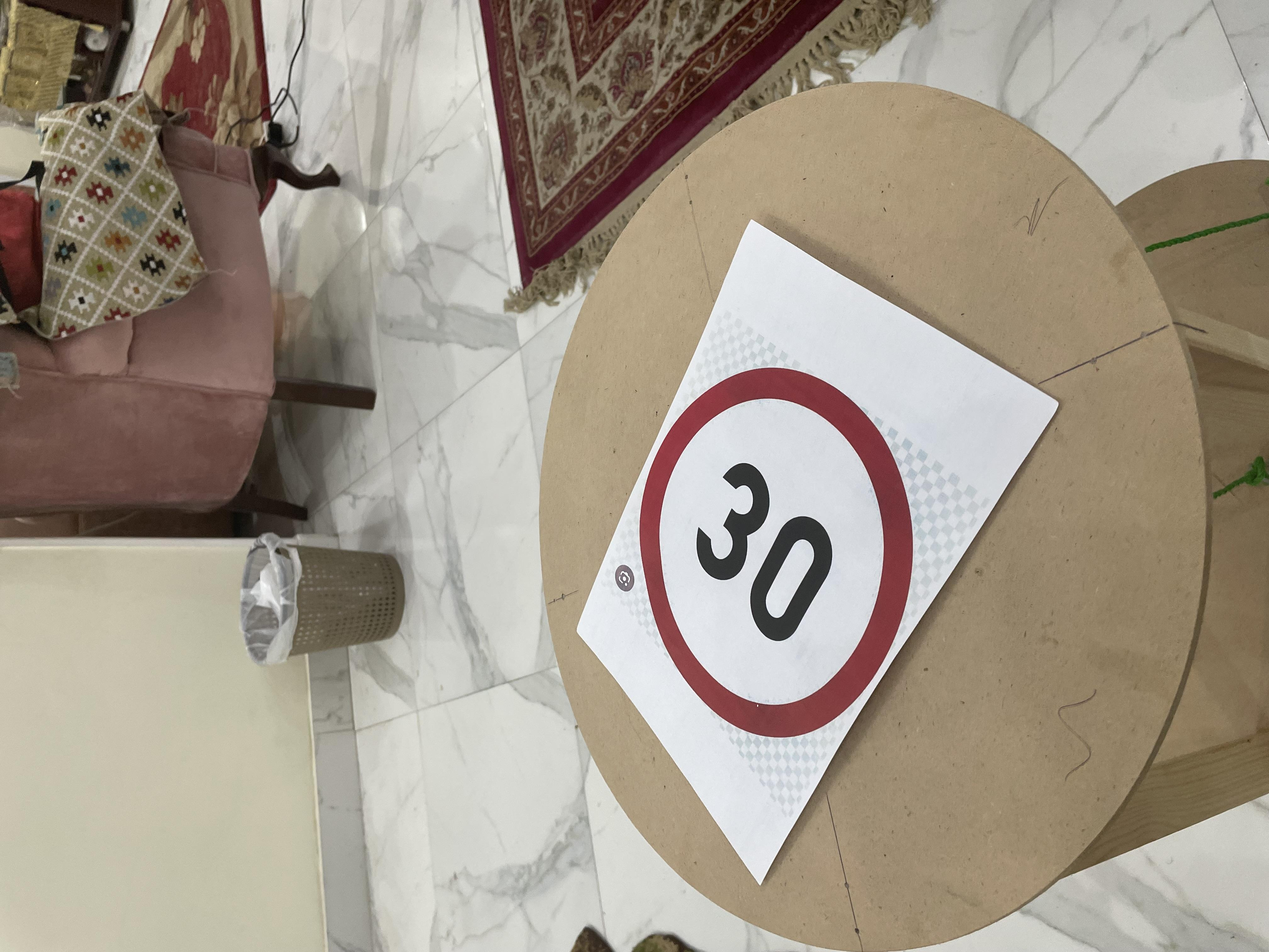30-speed: (277, 473, 794, 685)
